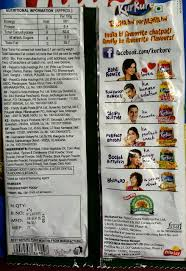kurkure: (116, 3, 162, 16)
plastic: (5, 2, 184, 264)
wrapper: (3, 10, 179, 241)
